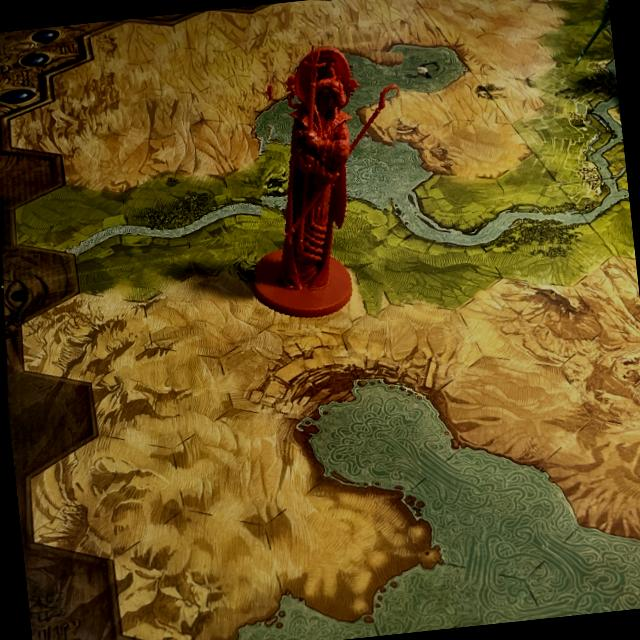amon: (235, 35, 418, 338)
